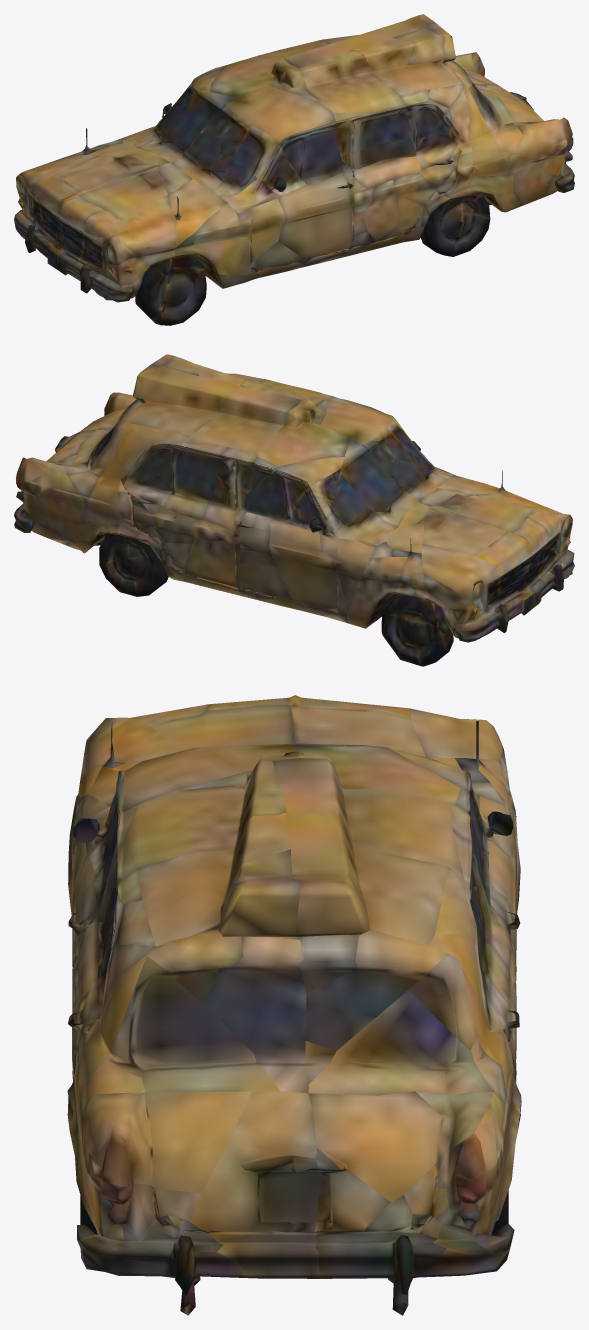
Rendered from car_taxi_light_q1.glb.
The picture shows the model from 3 angles, top to bottom: view 1: azimuth 30°, elevation 25°; view 2: azimuth 150°, elevation 25°; view 3: azimuth 270°, elevation 25°; orthographic projection. The views are drawn at different scales.
Size of the model in its own units: 4.01 by 1.5 by 1.62.
Materials: 1 (1 with a texture image).
